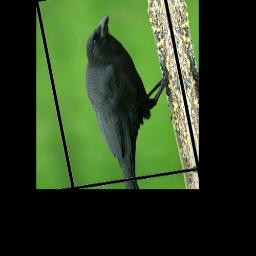Crow: (73, 7, 190, 183)
